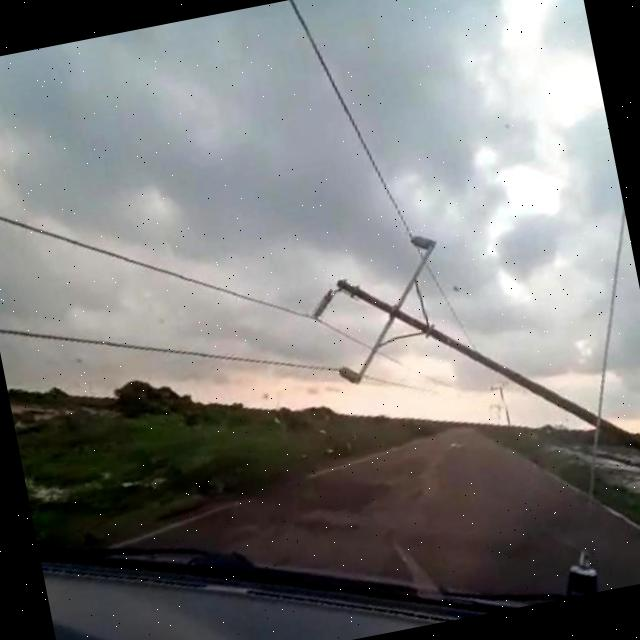Broken Pole: (311, 233, 640, 451)
